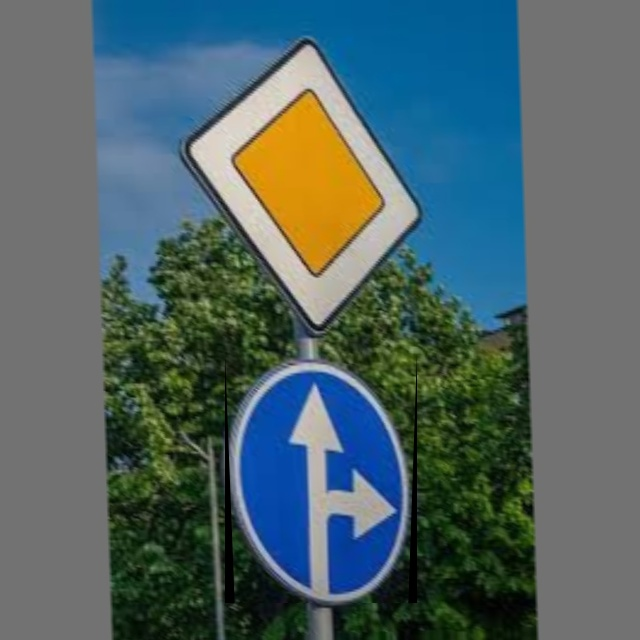Compulsory_Ahead_or_Turn_Right: (225, 353, 417, 603)
